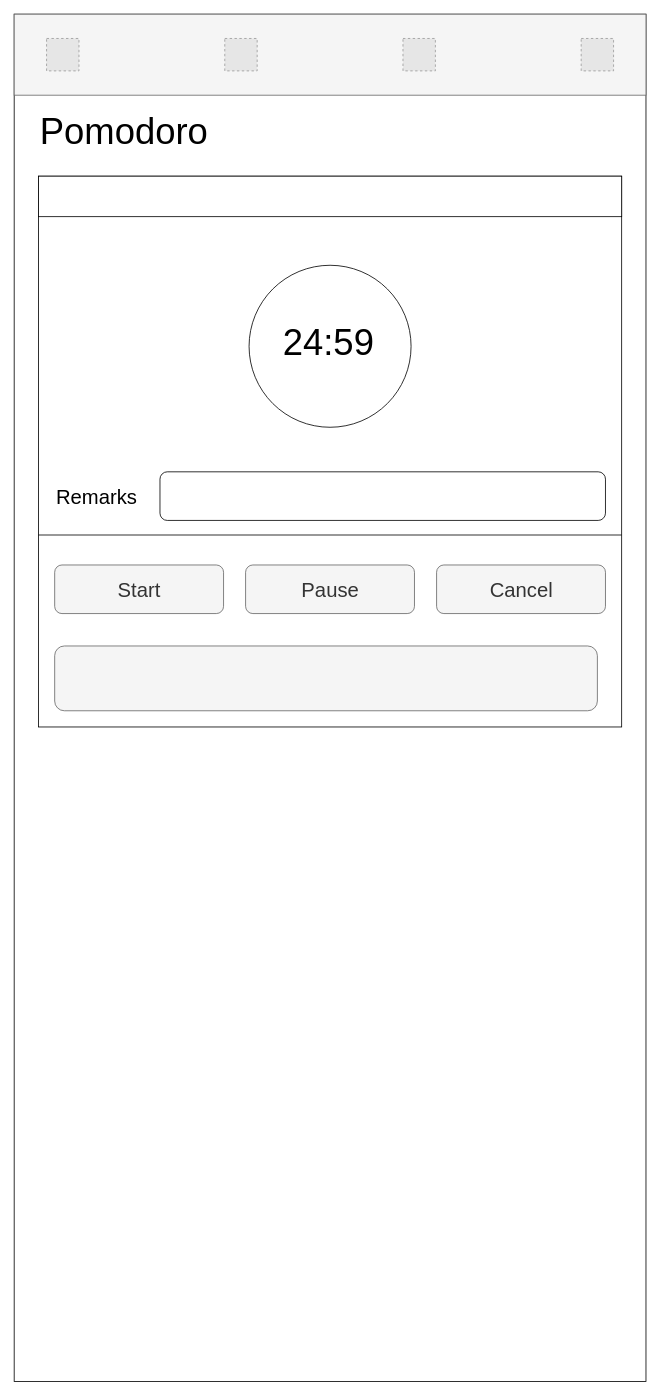
Image size: 660x1396. Some labels were removed from this diagram. Grey dashed boxes stand in for pictures. The shapes that lost their labels are listed below. From the top down, each one's centre as x and y in pixels, then its label:
(x=330, y=196): Add your Pomodoro
(x=325, y=678): < GO BACK
